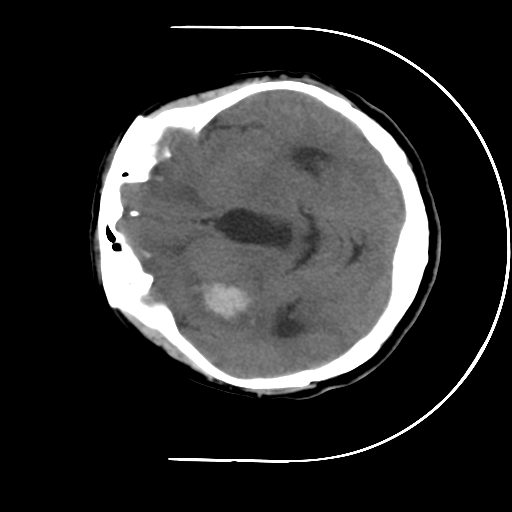a: (173, 268, 273, 343)
